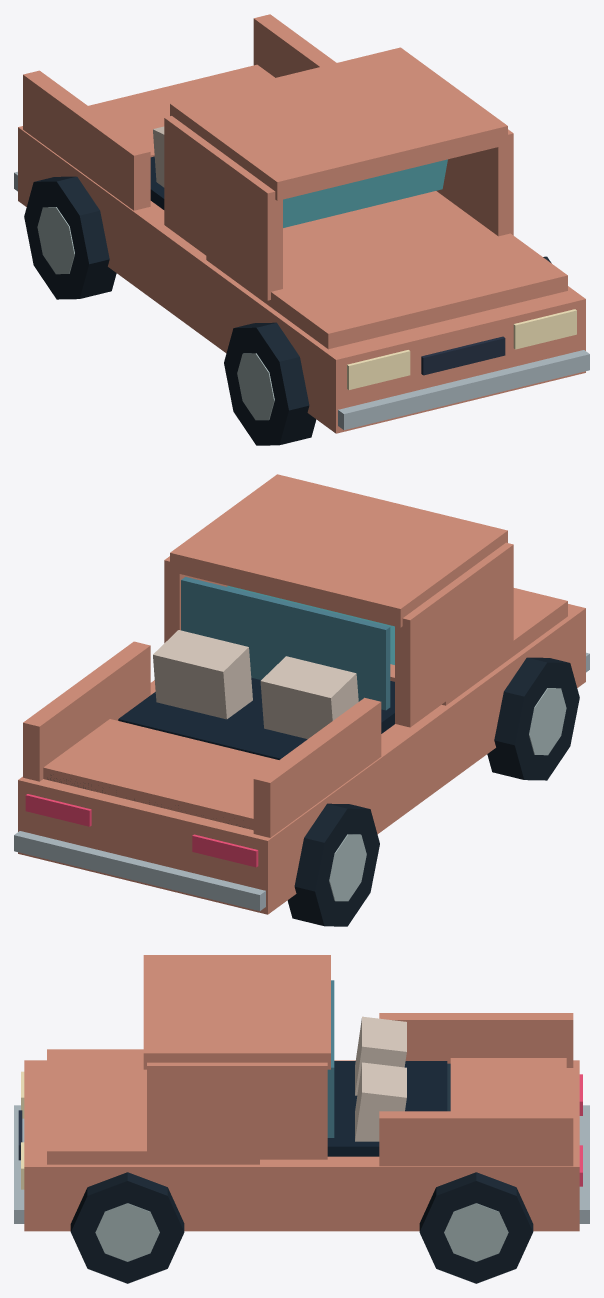
The model's file is vehicle-pickup.obj.
3 views of the same model, one above another, from view 1: azimuth 30°, elevation 25°; view 2: azimuth 150°, elevation 25°; view 3: azimuth 270°, elevation 25° (orthographic). The views are drawn at different scales.
Visible parts, largest first — view 1: vehicle-pickup; view 2: vehicle-pickup; view 3: vehicle-pickup.
Part boxes in pixels (x1,y1,x2,y2): vehicle-pickup: (14,14,589,445); vehicle-pickup: (14,474,589,926); vehicle-pickup: (14,955,589,1283).
Bounding box in the file's own units: 2.28 × 1.86 × 4.46.
